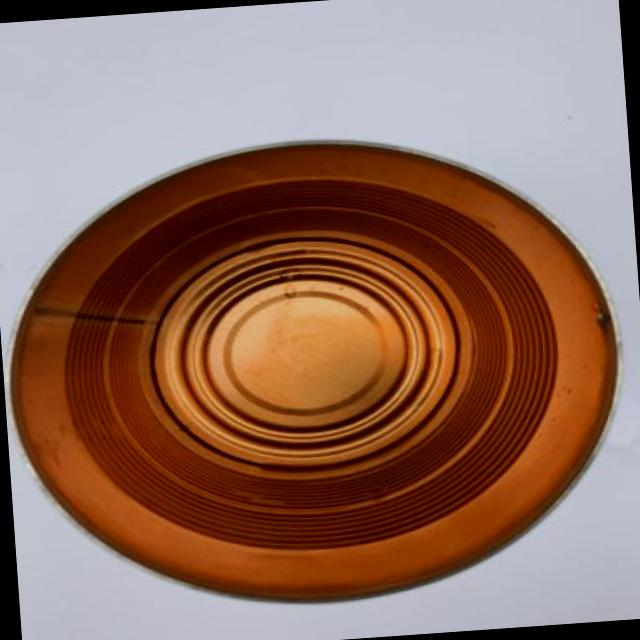metal: (11, 144, 615, 600)
